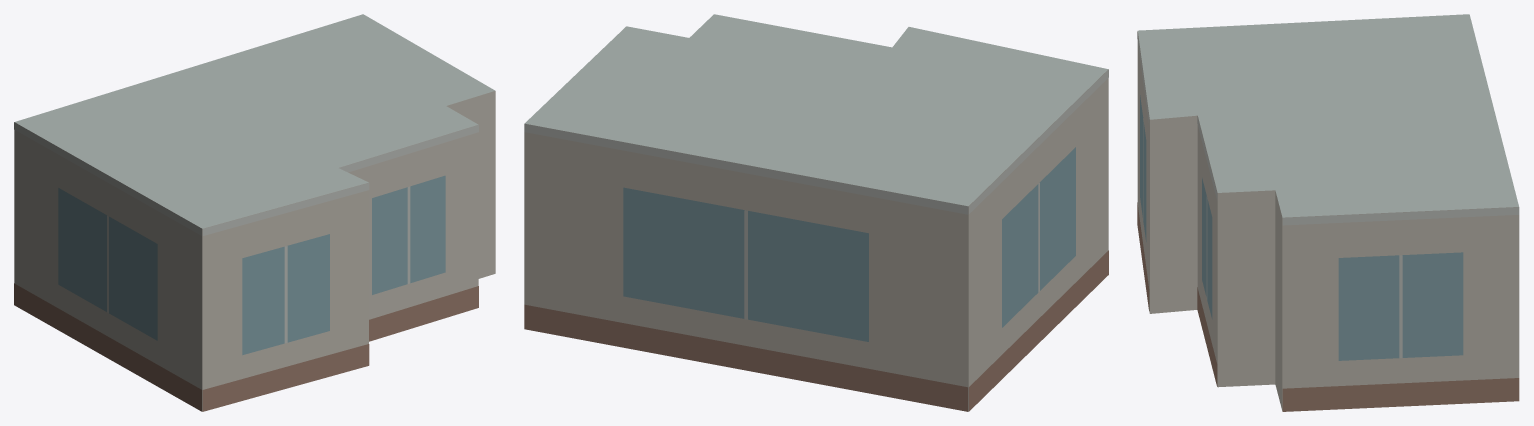
File: survey-upis-32808641.glb
The picture shows the model from 3 angles, left to right: view 1: azimuth 30°, elevation 25°; view 2: azimuth 150°, elevation 25°; view 3: azimuth 270°, elevation 25°; orthographic projection. The views are drawn at different scales.
Parts seen in each view (by area): view 1: survey-upis-32808641.tmp; view 2: survey-upis-32808641.tmp; view 3: survey-upis-32808641.tmp.
Part boxes in pixels (bbox=[...]): survey-upis-32808641.tmp: bbox=[14, 14, 495, 411]; survey-upis-32808641.tmp: bbox=[524, 14, 1108, 411]; survey-upis-32808641.tmp: bbox=[1137, 14, 1519, 411].
Bounding box in the file's own units: 6.86 × 3.05 × 5.44.
